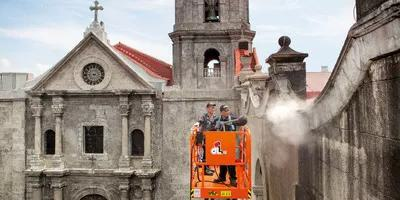san_agustin_church_intramuros_manila: (25, 1, 266, 200)
